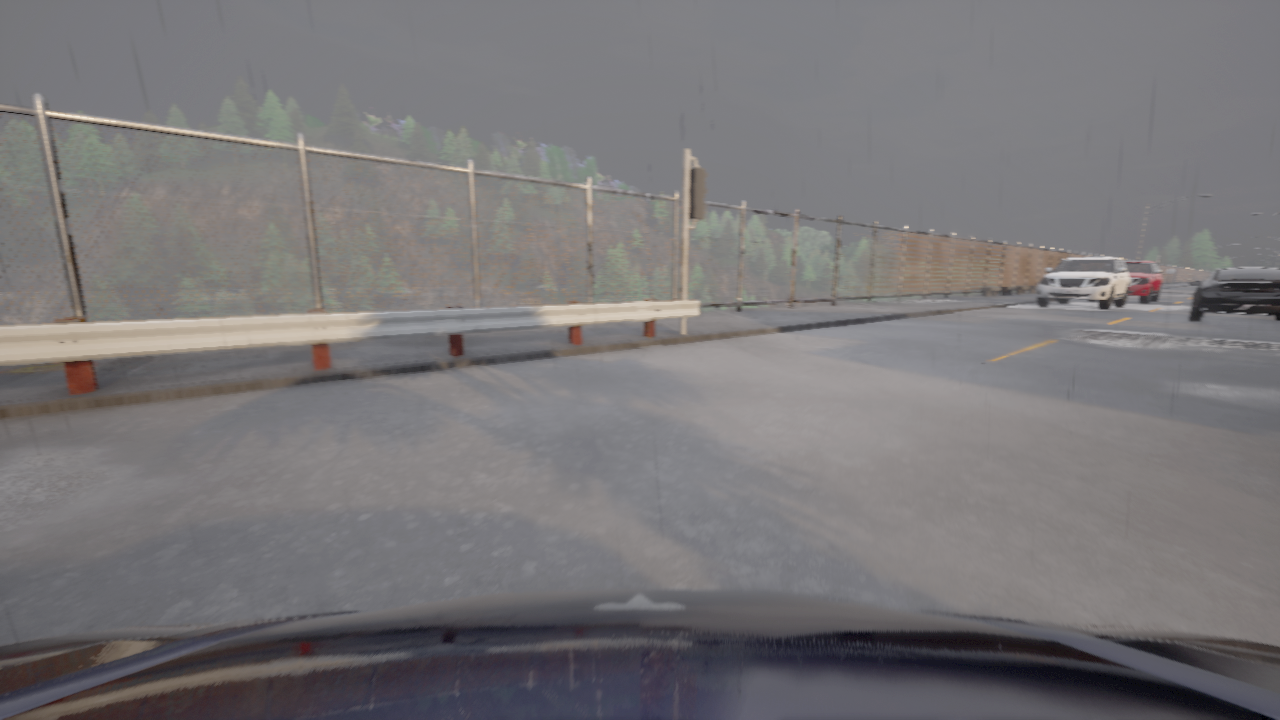cyclist: (0, 588, 1279, 719), (1037, 256, 1129, 309), (1189, 267, 1279, 321), (1087, 260, 1161, 303)
